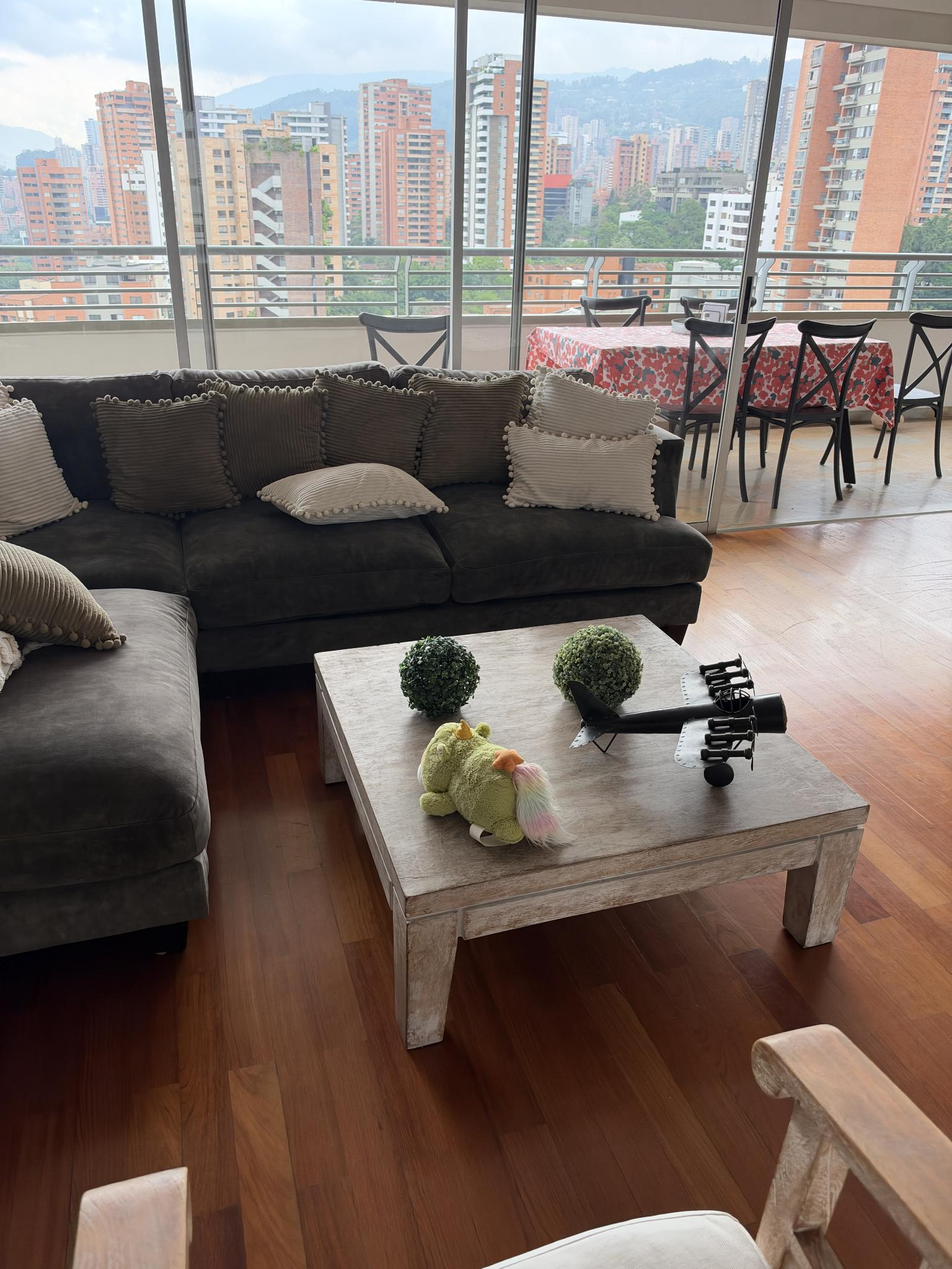peluche_martin: (417, 718, 578, 852)
